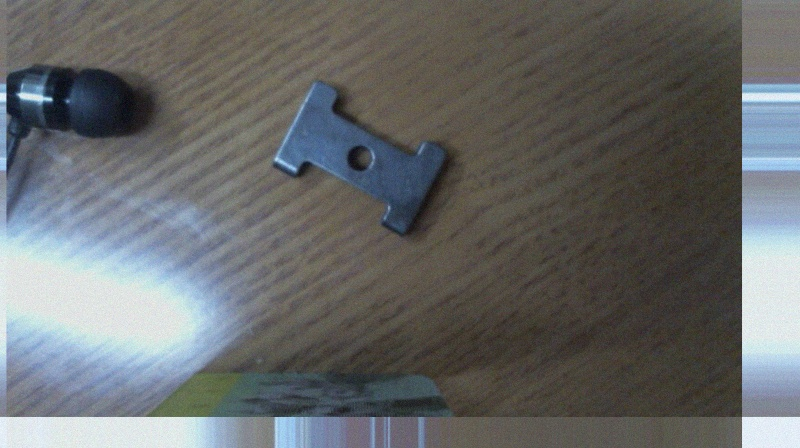O002: (271, 81, 448, 236)
